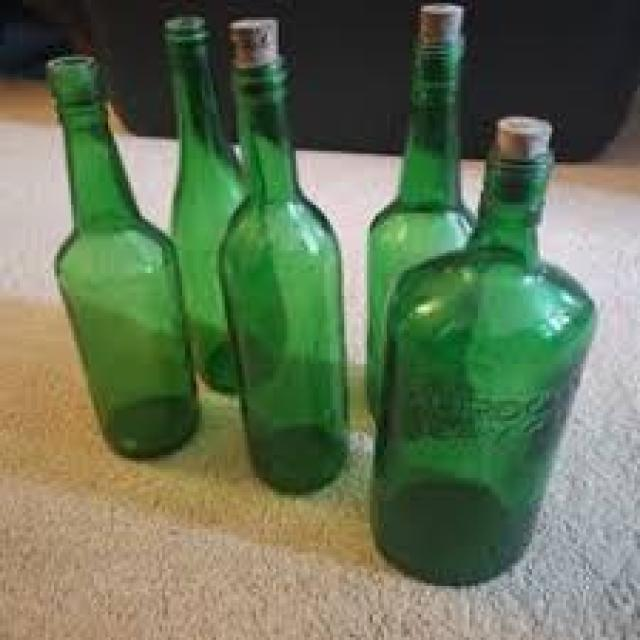glass: (373, 145, 592, 586), (43, 48, 196, 461), (216, 51, 344, 495), (160, 12, 285, 393), (364, 31, 469, 418)
